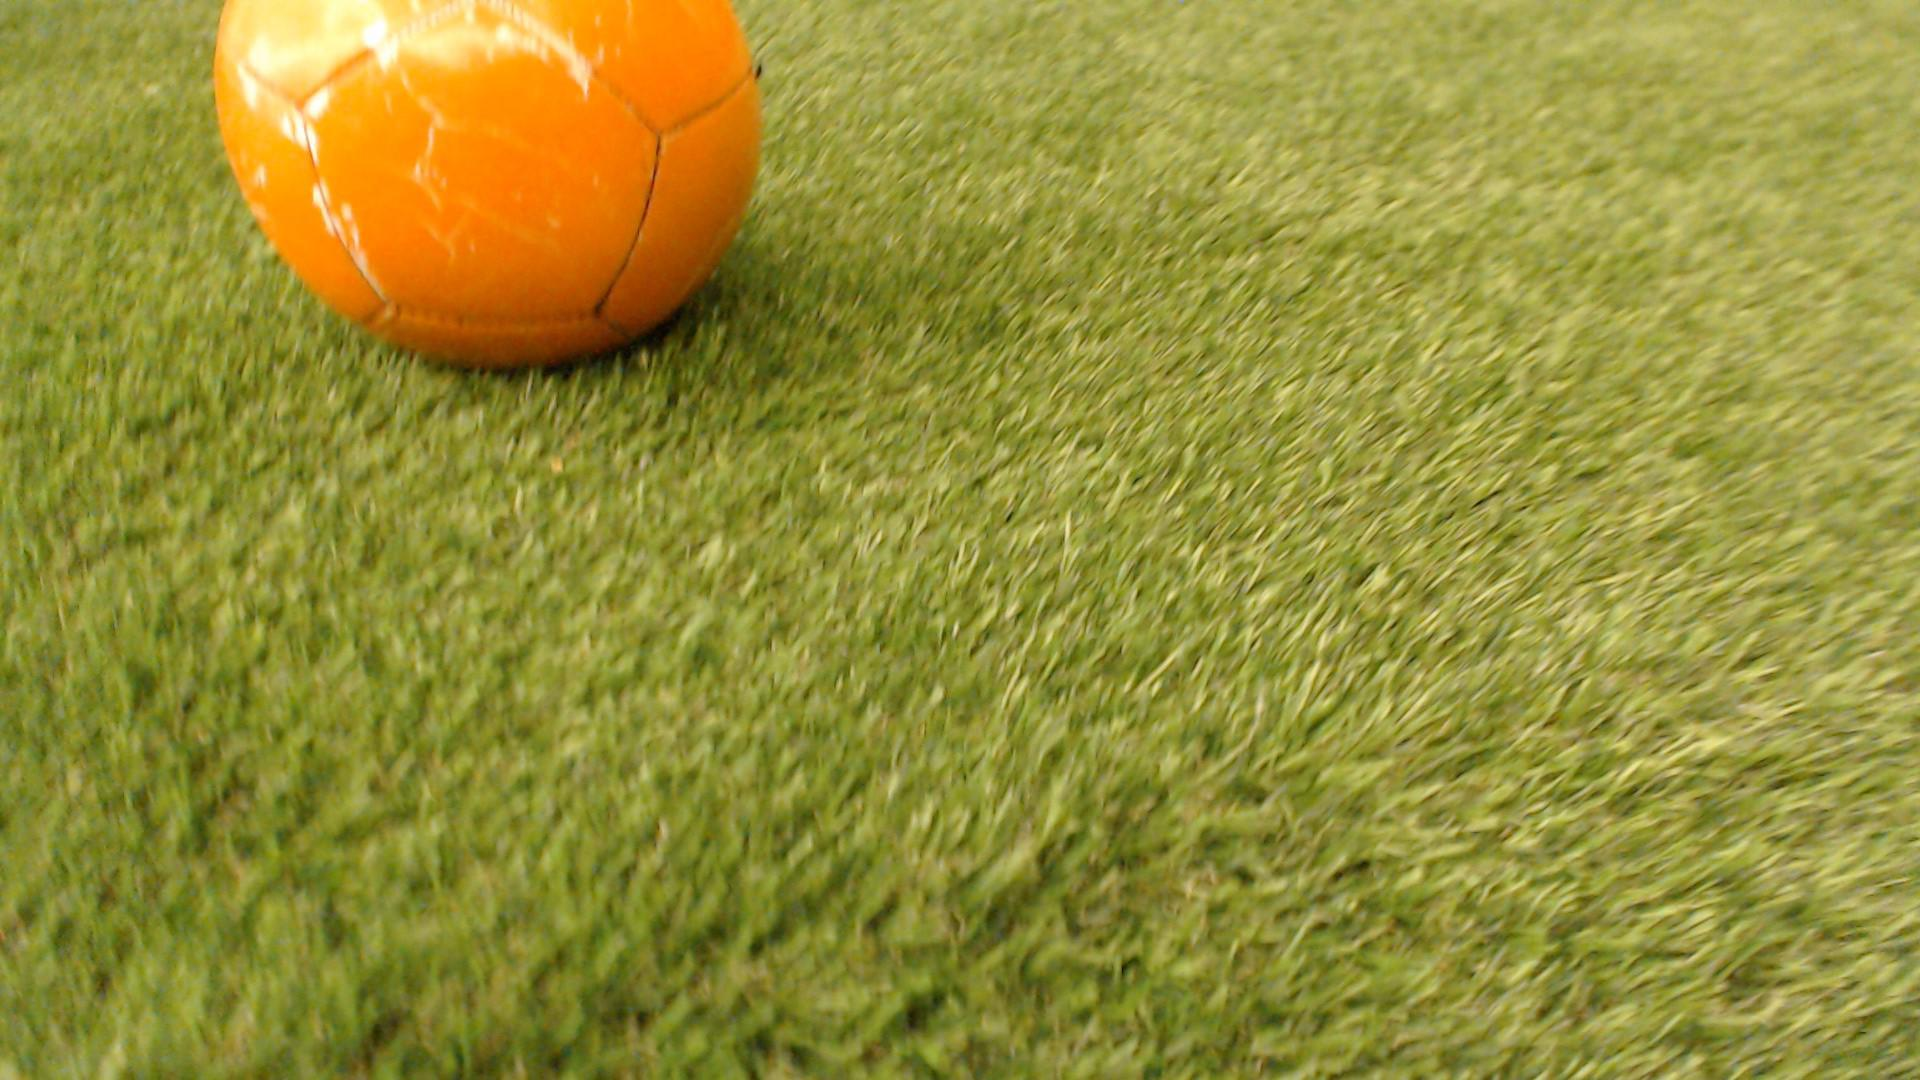bola: (207, 0, 775, 392)
